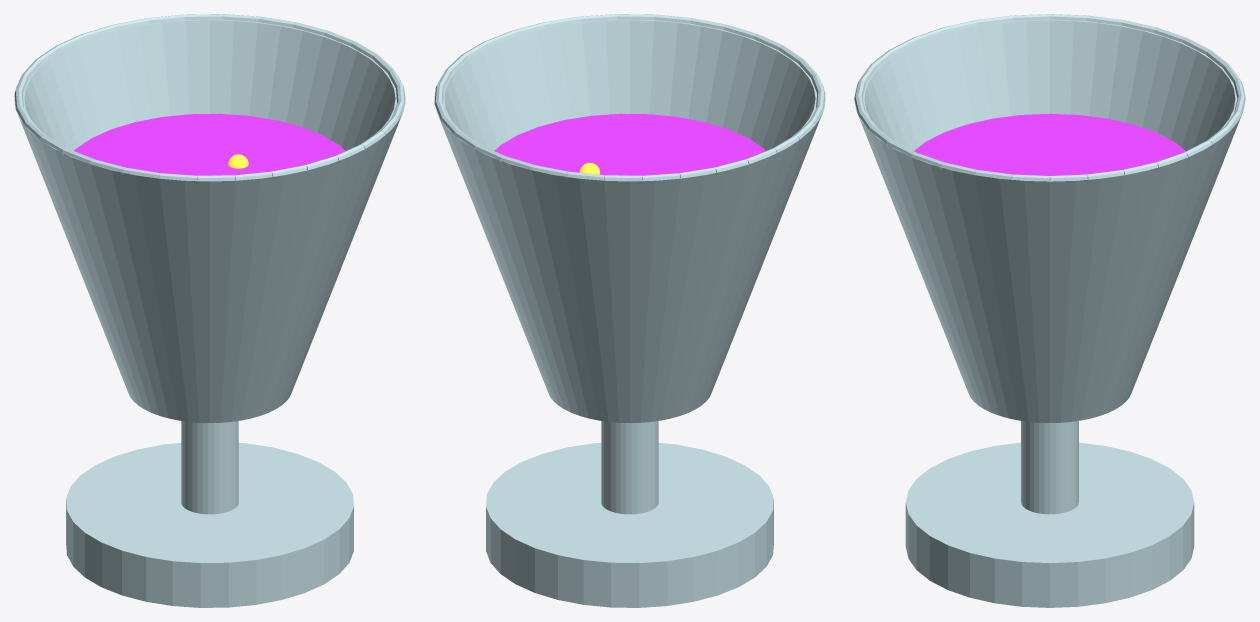
The model's file is drink_voidfruit.glb.
3 views of the same model, side by side, from view 1: azimuth 30°, elevation 25°; view 2: azimuth 150°, elevation 25°; view 3: azimuth 270°, elevation 25° (orthographic).
Visible parts, largest first — view 1: clear_0003, clear_0001, liquid_0004, clear_0002; view 2: clear_0003, clear_0001, liquid_0004, clear_0002; view 3: clear_0003, clear_0001, liquid_0004, clear_0002.
Part boxes in pixels (x1,y1,x2,y2): clear_0003: (14, 19, 405, 422); clear_0001: (66, 443, 353, 607); liquid_0004: (74, 113, 345, 175); clear_0002: (181, 421, 238, 514); clear_0003: (434, 19, 825, 422); clear_0001: (486, 443, 773, 607); liquid_0004: (494, 113, 765, 175); clear_0002: (601, 421, 658, 514); clear_0003: (854, 19, 1245, 422); clear_0001: (905, 442, 1194, 607); liquid_0004: (914, 113, 1185, 175); clear_0002: (1021, 421, 1078, 514).
Bounding box in the file's own units: 0.19 × 0.242 × 0.19.
